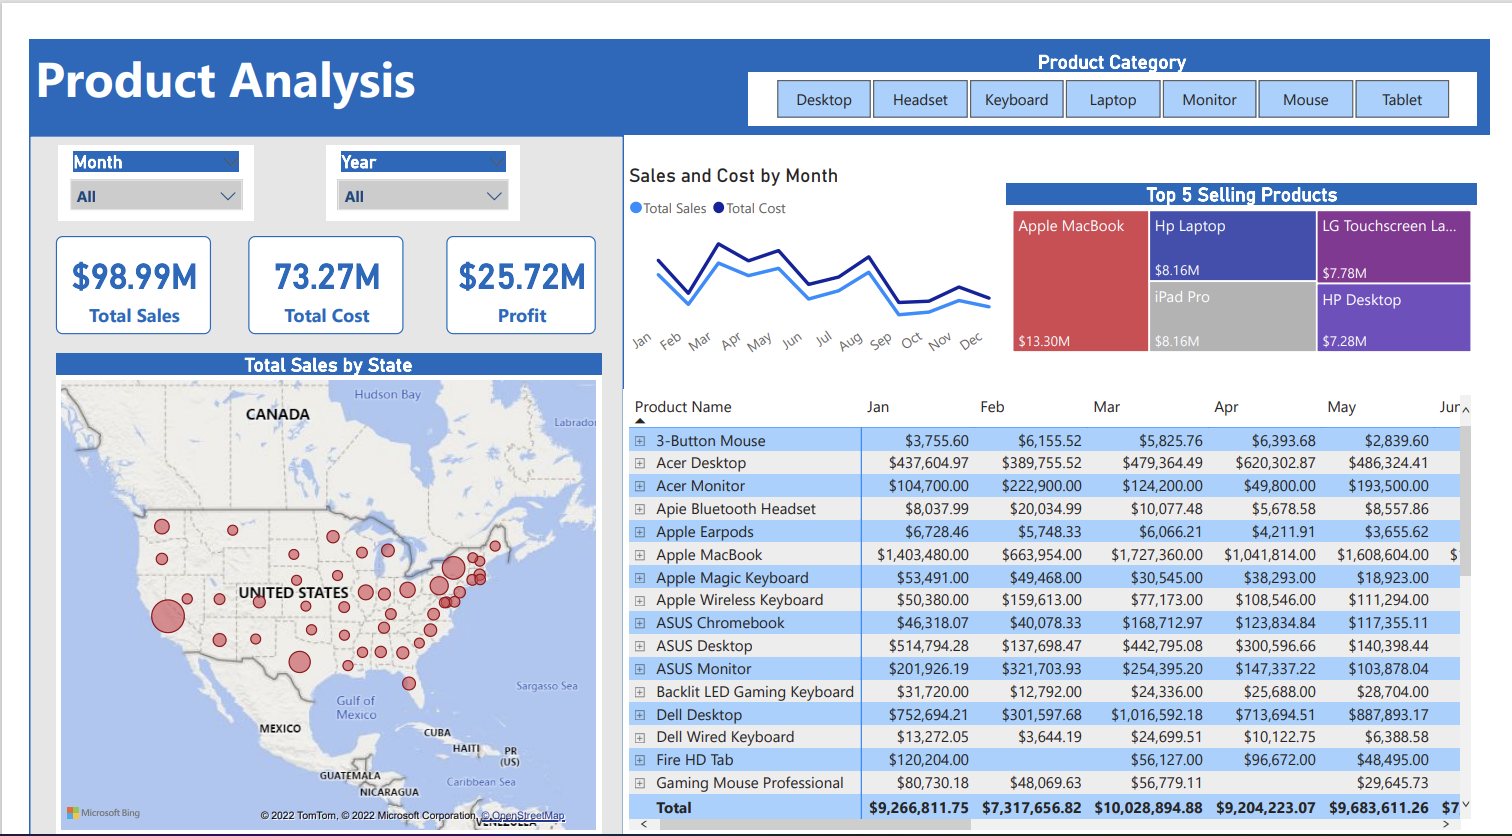

The dashboard page shown, as its layout file describes it:
{"tool":"powerbi","page":{"name":"Product Analysis","canvas":[1280,720],"ordinal":0},"visuals":[{"type":"shape","box":[0,92.9,520.7,627.1],"z":0},{"type":"textbox","box":[0,8.6,1279.9,84.3],"z":1000},{"type":"slicer","title":"Product Category","fields":{"Values":["Sales.Products.Category"]},"box":[629.5,18.3,639.3,66],"z":2000},{"type":"map","fields":{"Category":["Sales.State"],"Size":["_Calculation.Total Sales"]},"box":[23.2,283.6,478,421.7],"z":3000},{"type":"slicer","fields":{"Values":["Sales.Month Name"]},"box":[25.7,101.5,171.1,66],"z":4000},{"type":"slicer","fields":{"Values":["Sales.Year"]},"box":[260.4,101.5,169.9,66],"z":5000},{"type":"card","fields":{"Values":["_Calculation.Total Sales"]},"box":[23.2,180.9,135.7,85.6],"z":6000},{"type":"card","fields":{"Values":["_Calculation.Total Cost"]},"box":[191.9,180.9,135.7,85.6],"z":7000},{"type":"card","fields":{"Values":["_Calculation.Profit"]},"box":[365.5,180.9,130.8,85.6],"z":8000},{"type":"pivotTable","fields":{"Rows":["Products.Product Name","Products.Category","Sales.Sales Rep"],"Columns":["Sales.ShortMonth"],"Values":["_Calculation.Total Sales"]},"box":[520.7,315.4,748.1,389.9],"z":9000},{"type":"treemap","title":"Top 5 Selling Products","fields":{"Group":["Sales.Product Name"],"Values":["_Calculation.Total Sales"]},"box":[856.9,134.5,412,152.8],"z":10000},{"type":"lineChart","title":"Sales and Cost by Month","fields":{"Category":["Sales.ShortMonth"],"Y":["_Calculation.Total Sales"],"Y2":["_Calculation.Total Cost"]},"box":[520.7,117.4,336.2,188.3],"z":11000}]}

Visuals, with their boxes in screenshot pixels (x1, y1, x2, y2), scaled from the page's 1280x720 canvas onto the 1512x836 screenshot:
shape: locate(0, 108, 615, 835)
textbox: locate(0, 10, 1511, 108)
"Product Category" slicer: locate(744, 21, 1499, 98)
map - Sales.State x _Calculation.Total Sales: locate(27, 329, 592, 819)
slicer - Sales.Month Name: locate(30, 118, 232, 194)
slicer - Sales.Year: locate(308, 118, 508, 194)
card - _Calculation.Total Sales: locate(27, 210, 188, 309)
card - _Calculation.Total Cost: locate(227, 210, 387, 309)
card - _Calculation.Profit: locate(432, 210, 586, 309)
pivotTable - Products.Product Name x Products.Category: locate(615, 366, 1499, 819)
"Top 5 Selling Products" treemap: locate(1012, 156, 1499, 334)
"Sales and Cost by Month" lineChart: locate(615, 136, 1012, 355)
